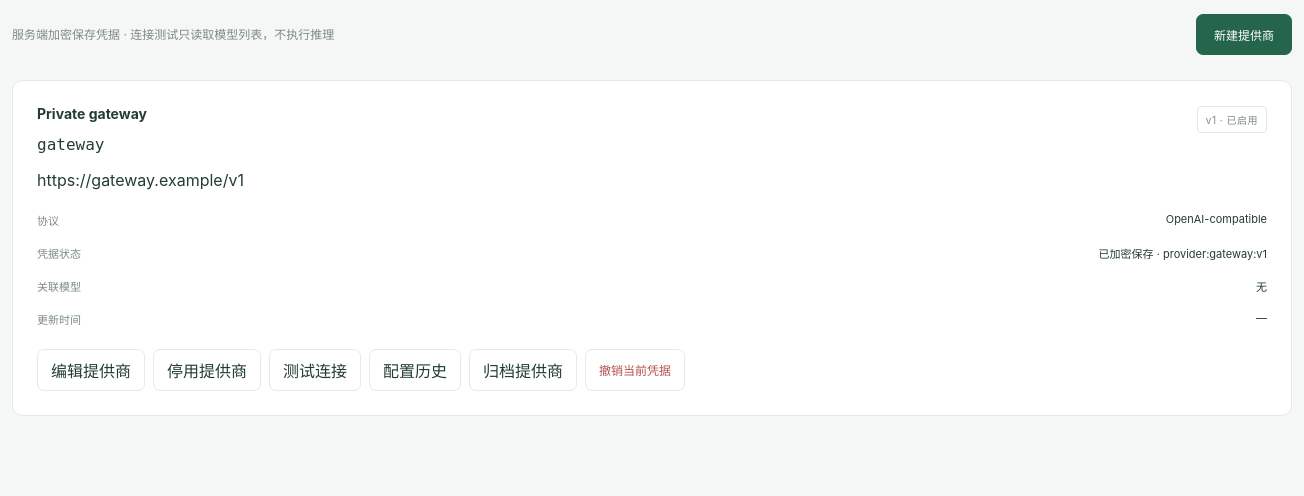
it: connection testing is a bounded non-inference action
This screenshot has width=1304, height=496.
Check: the heading "Private gateway" is shown, box [37, 105, 147, 122]
Click the button "测试连接" at (315, 370), box [269, 349, 361, 391]
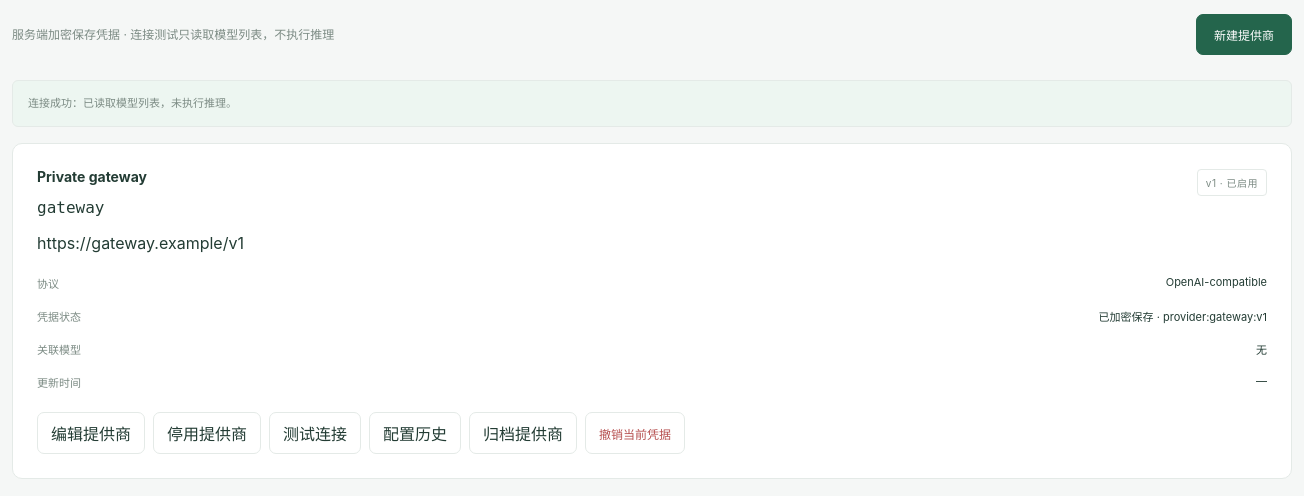
Check: the text "连接成功：已读取模型列表，未执行推理。" is shown, box [12, 80, 1292, 127]
